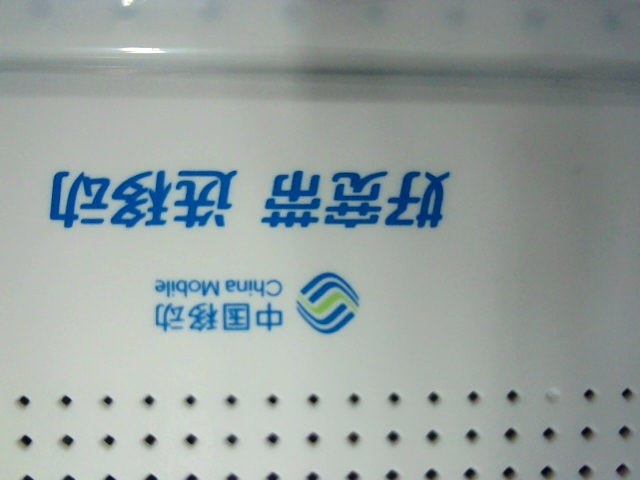AA_ChinaMobile: (43, 157, 461, 350)
